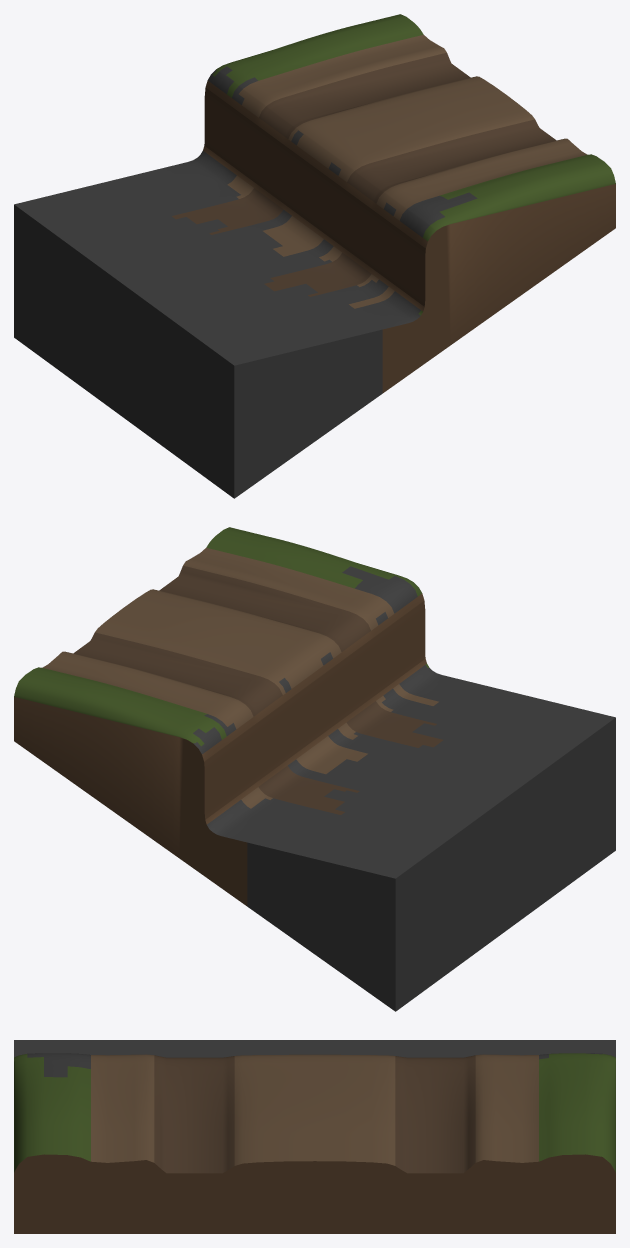
3 views of the same model, one above another, from view 1: azimuth 30°, elevation 25°; view 2: azimuth 150°, elevation 25°; view 3: azimuth 270°, elevation 25° (orthographic). The views are drawn at different scales.
Parts seen in each view (by area): view 1: s2u; view 2: s2u; view 3: s2u.
Part boxes in pixels (<box>): s2u: <box>14,14,615,498</box>; s2u: <box>14,527,615,1011</box>; s2u: <box>14,1040,615,1233</box>.
Size of the model in its own units: 9 by 5.31 by 9.
